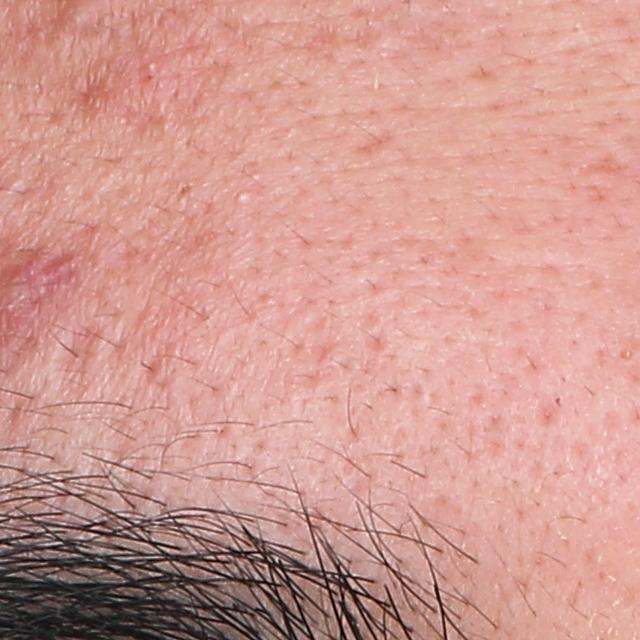atrophic_scar: (56, 326, 114, 416), (350, 123, 397, 161)
comedo: (233, 188, 257, 209), (614, 347, 636, 366)
